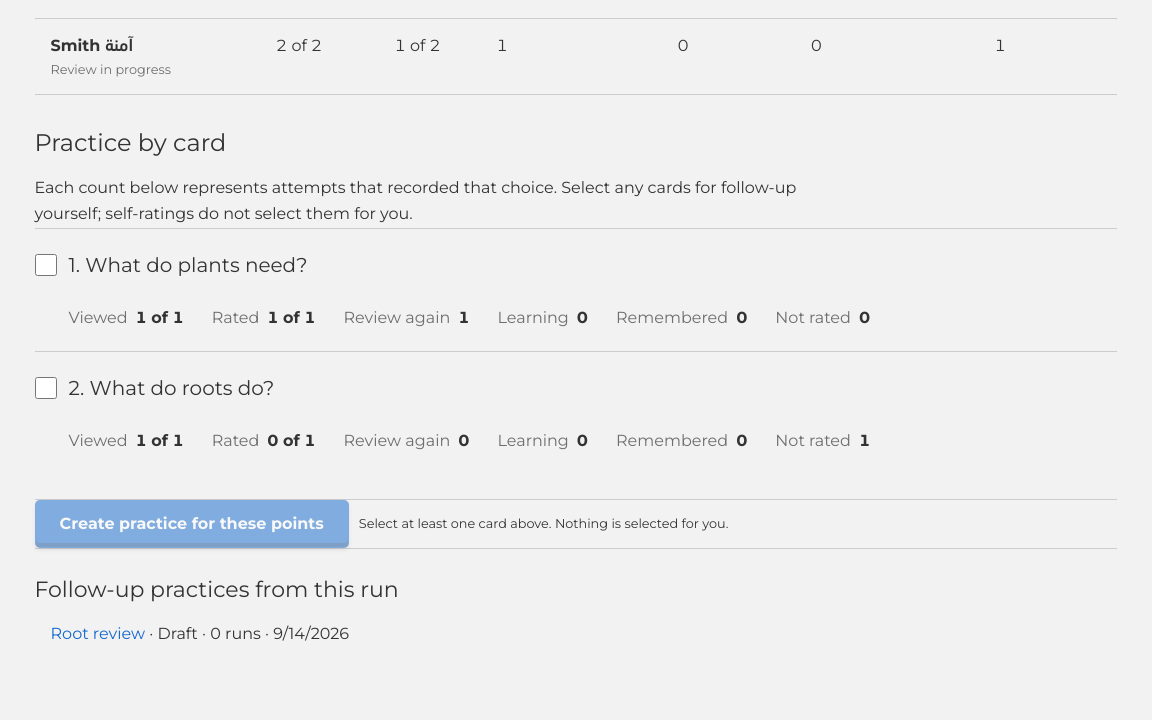
Scenario: keeps follow-up selection teacher-controlled and preserves existing follow-up links
(page scrolled)
Expected: the button "Create practice for these points" is disabled, [34,500,349,548]
Click the checkbox named "Select card 2 for practice".
click(46, 388)  # box [34,377,56,399]
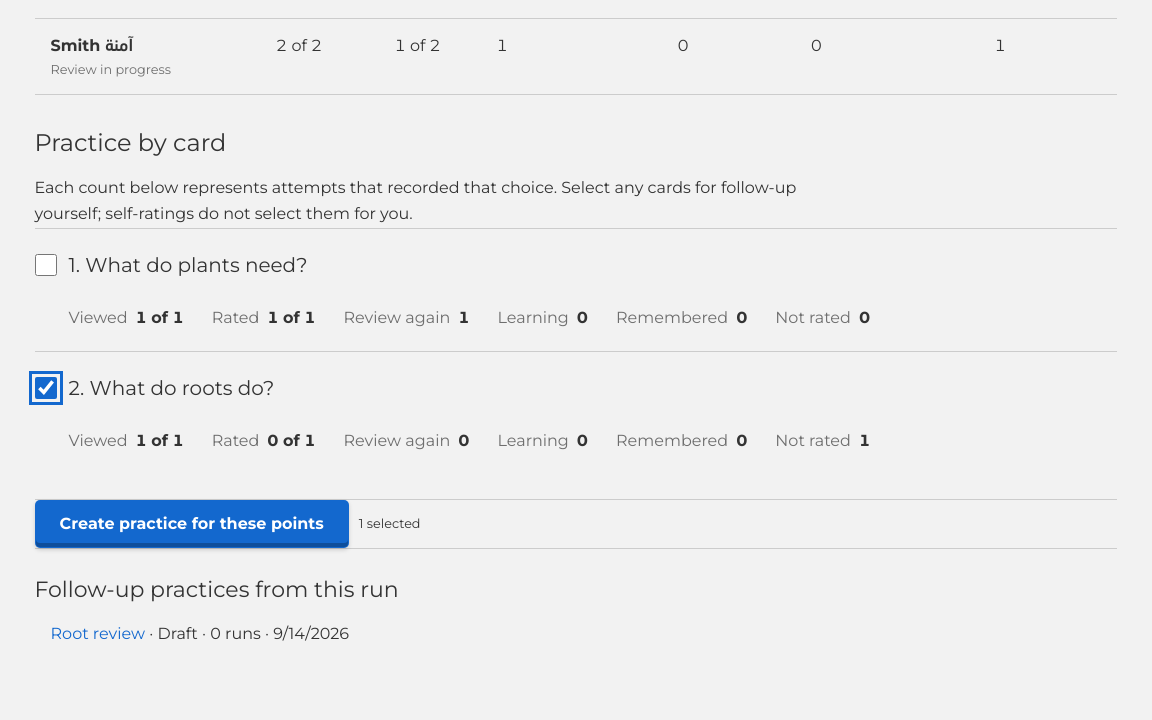
Now the button "Create practice for these points" is enabled, box [34,500,349,548]
